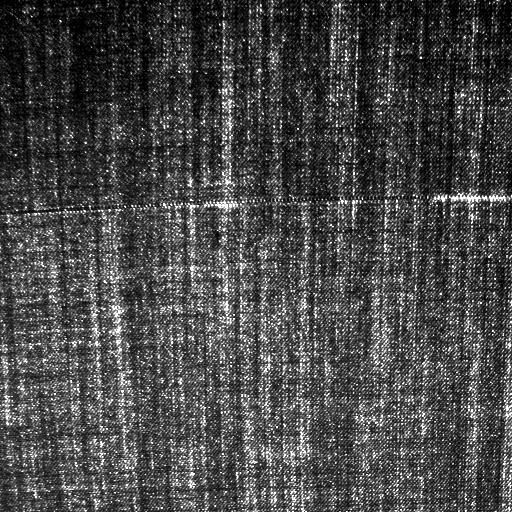fabric_hole: (52, 186, 502, 232)
